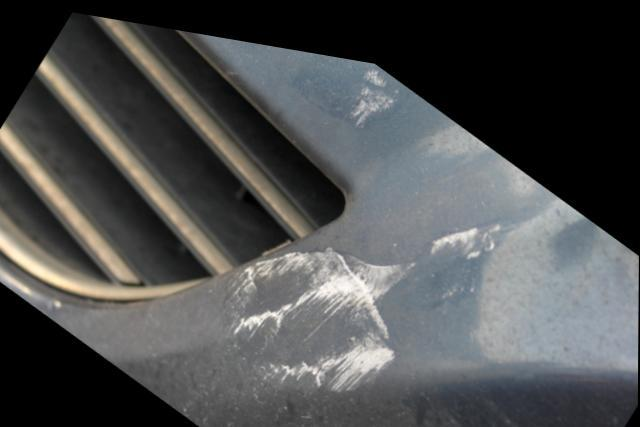scratch: (219, 205, 505, 391)
